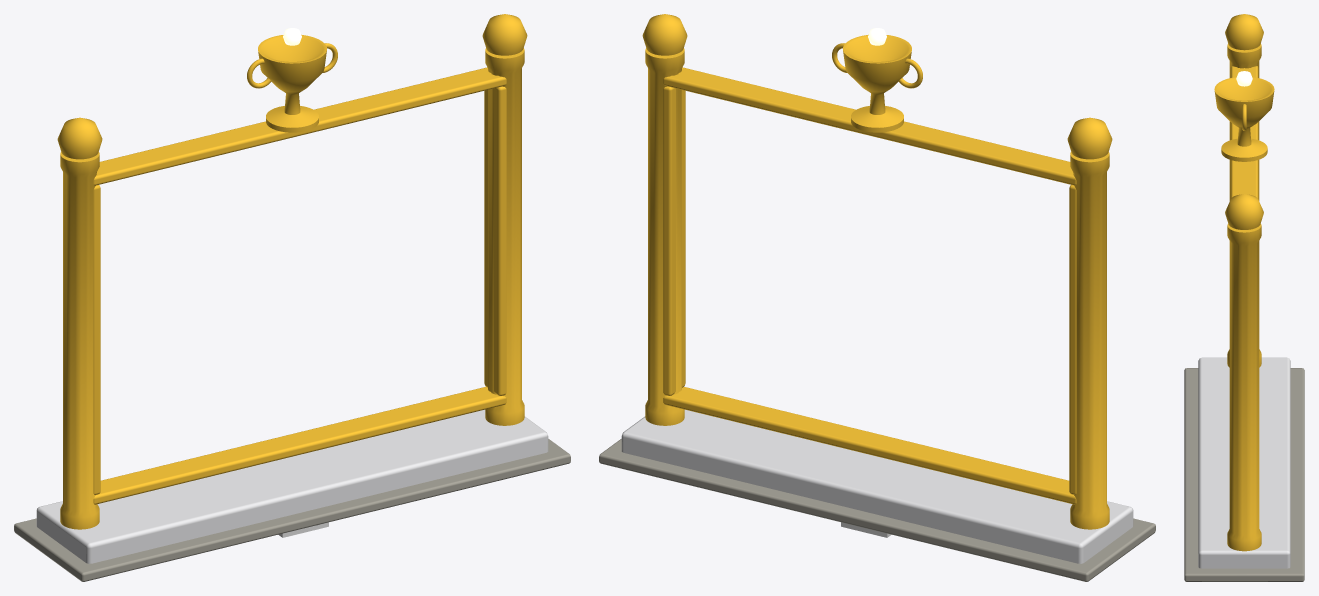
Rendered from HallOfFame.fbx.
3 views of the same model, side by side, from view 1: azimuth 30°, elevation 25°; view 2: azimuth 150°, elevation 25°; view 3: azimuth 270°, elevation 25° (orthographic). The views are drawn at different scales.
Visible parts, largest first — view 1: Body__Gold, Body__Marble, Body__StoneLight; view 2: Body__Gold, Body__Marble, Body__StoneLight; view 3: Body__Gold, Body__Marble, Body__StoneLight, TrophyStar__NeonYellow.
Part boxes in pixels (<box>): Body__Gold: <box>57,14,527,529</box>; Body__Marble: <box>36,409,548,563</box>; Body__StoneLight: <box>14,439,570,581</box>; Body__Gold: <box>642,14,1112,529</box>; Body__Marble: <box>621,409,1133,563</box>; Body__StoneLight: <box>599,439,1155,581</box>; Body__Gold: <box>1214,14,1274,551</box>; Body__Marble: <box>1198,357,1290,568</box>; Body__StoneLight: <box>1184,368,1304,581</box>; TrophyStar__NeonYellow: <box>1236,71,1252,86</box>.
Bounding box in the file's own units: 10.6 × 10.23 × 2.6.
